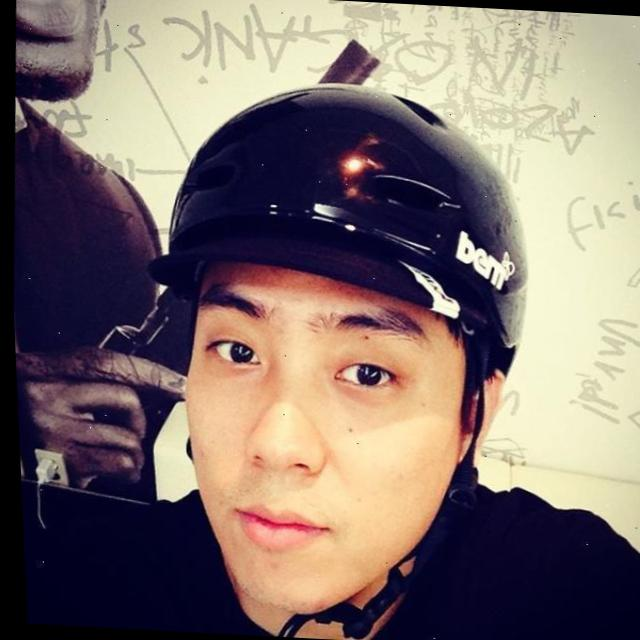helmet: (122, 72, 548, 640)
